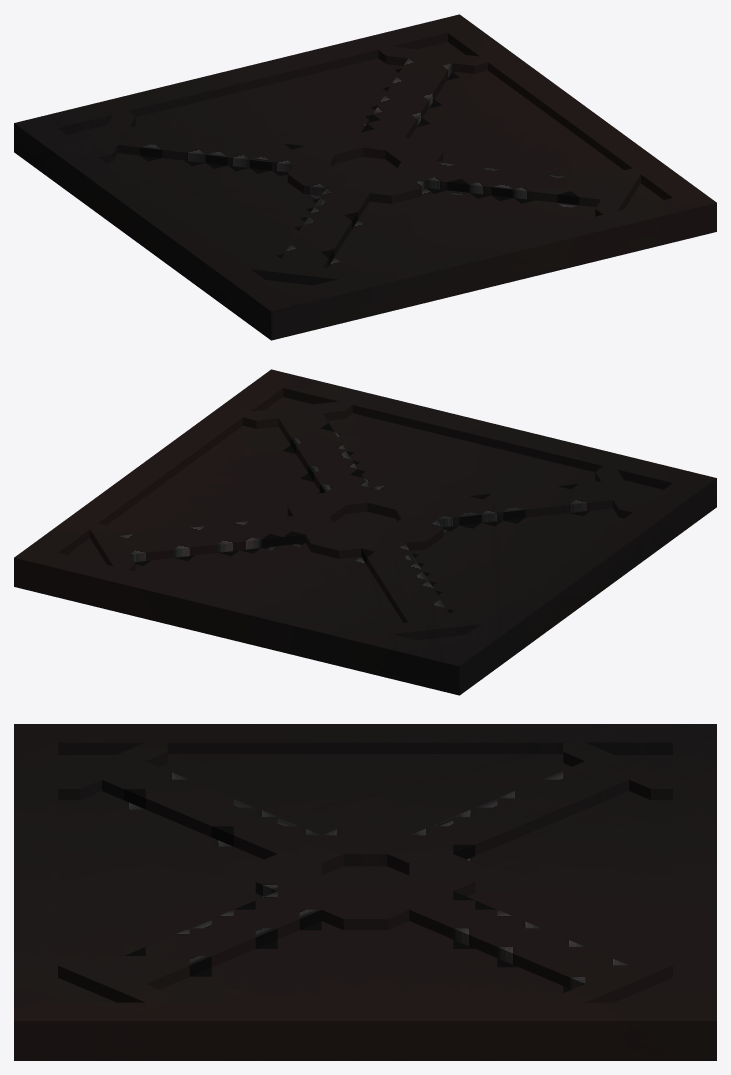
The model's file is wall2tex.glb.
The picture shows the model from 3 angles, top to bottom: view 1: azimuth 30°, elevation 25°; view 2: azimuth 150°, elevation 25°; view 3: azimuth 270°, elevation 25°; orthographic projection. The views are drawn at different scales.
Visible parts, largest first — view 1: Cube; view 2: Cube; view 3: Cube.
Part boxes in pixels (left/top/right/bottom): Cube: left=14, top=14, right=716, bottom=340; Cube: left=14, top=369, right=716, bottom=695; Cube: left=14, top=724, right=716, bottom=1060.
Size of the model in its own units: 2 by 0.125 by 2.
1 material, 1 textured.
